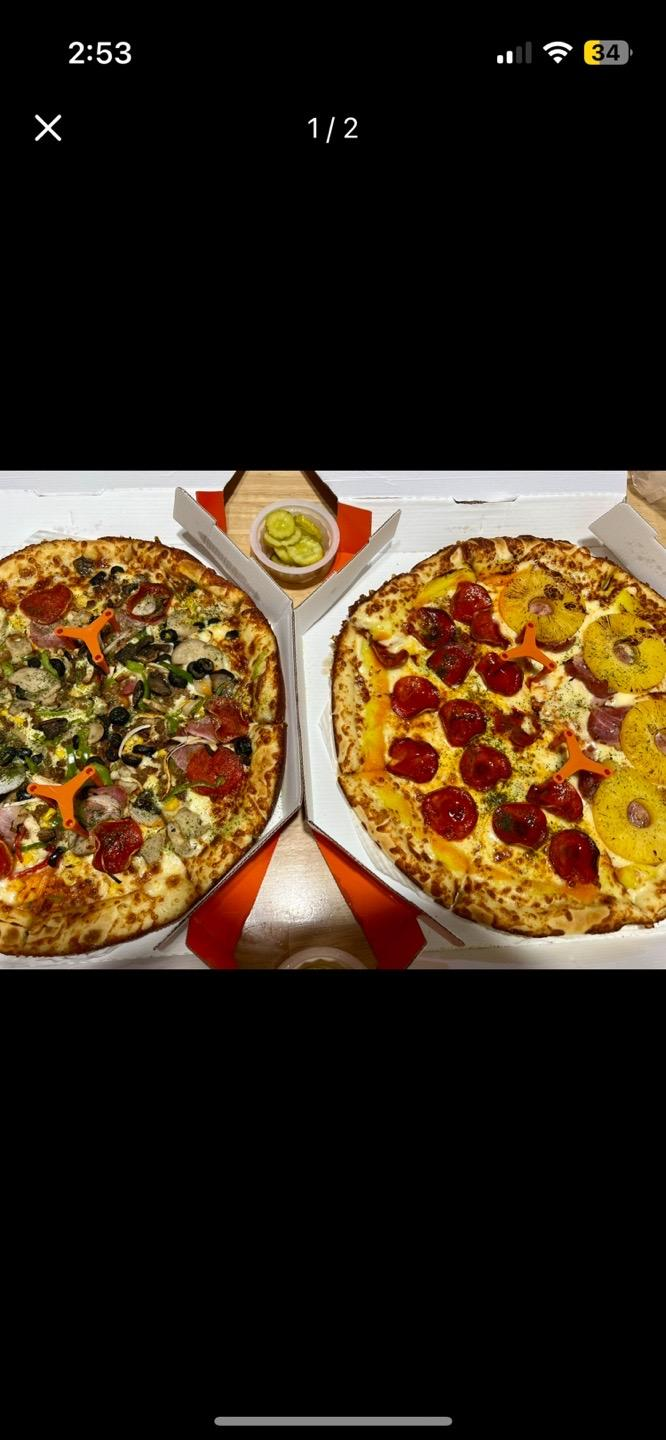Lunch Box: (295, 471, 665, 968), (0, 471, 302, 968)
cup: (250, 497, 339, 600)
